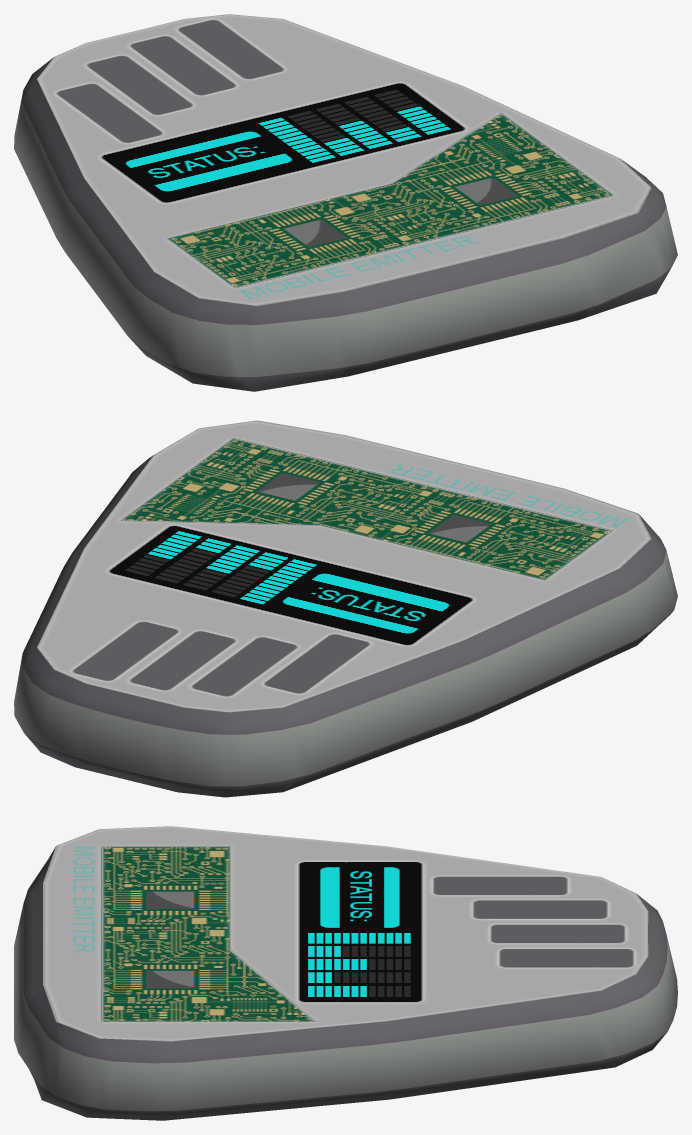
File: MobileEmitter.FBX
3 views of the same model, one above another, from view 1: azimuth 30°, elevation 25°; view 2: azimuth 150°, elevation 25°; view 3: azimuth 270°, elevation 25° (orthographic). The views are drawn at different scales.
Parts seen in each view (by area): view 1: emitterMesh; view 2: emitterMesh; view 3: emitterMesh.
Boxes of the visible parts, x1,y1,x2,y2 form: emitterMesh: (14, 14, 677, 391); emitterMesh: (14, 420, 677, 797); emitterMesh: (14, 826, 677, 1120).
Size of what is drawn, in the model's own units: 2.27 by 0.3281 by 2.69.
Materials: 1 (1 with a texture image).
